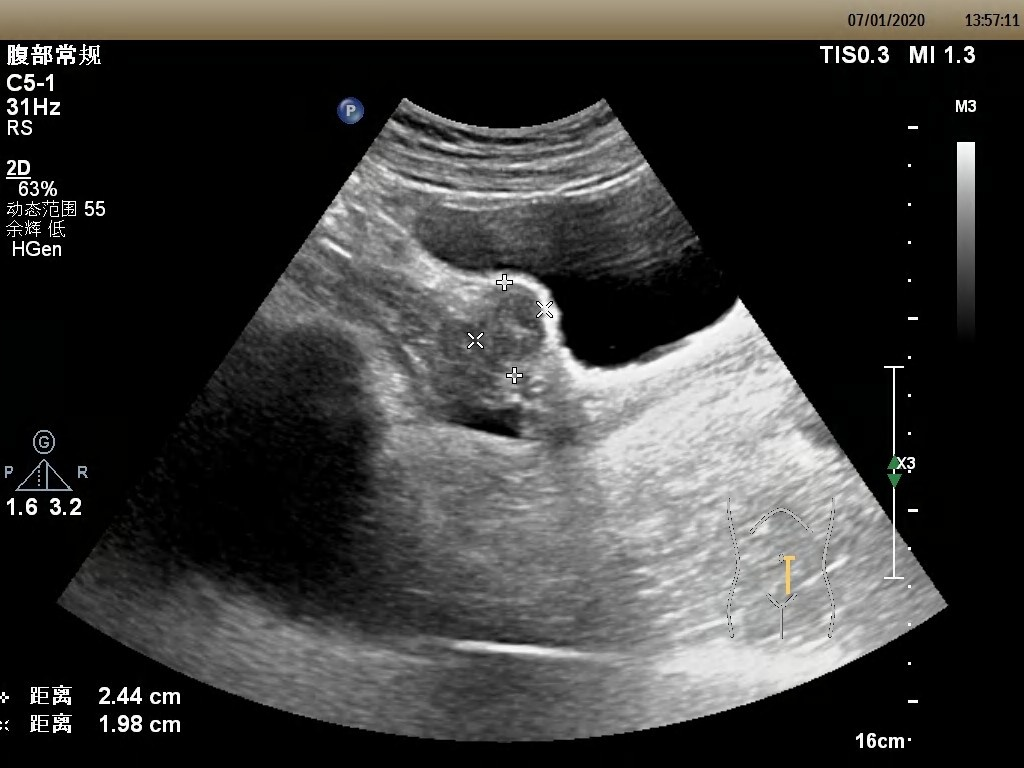肌瘤: (468, 281, 548, 376)
